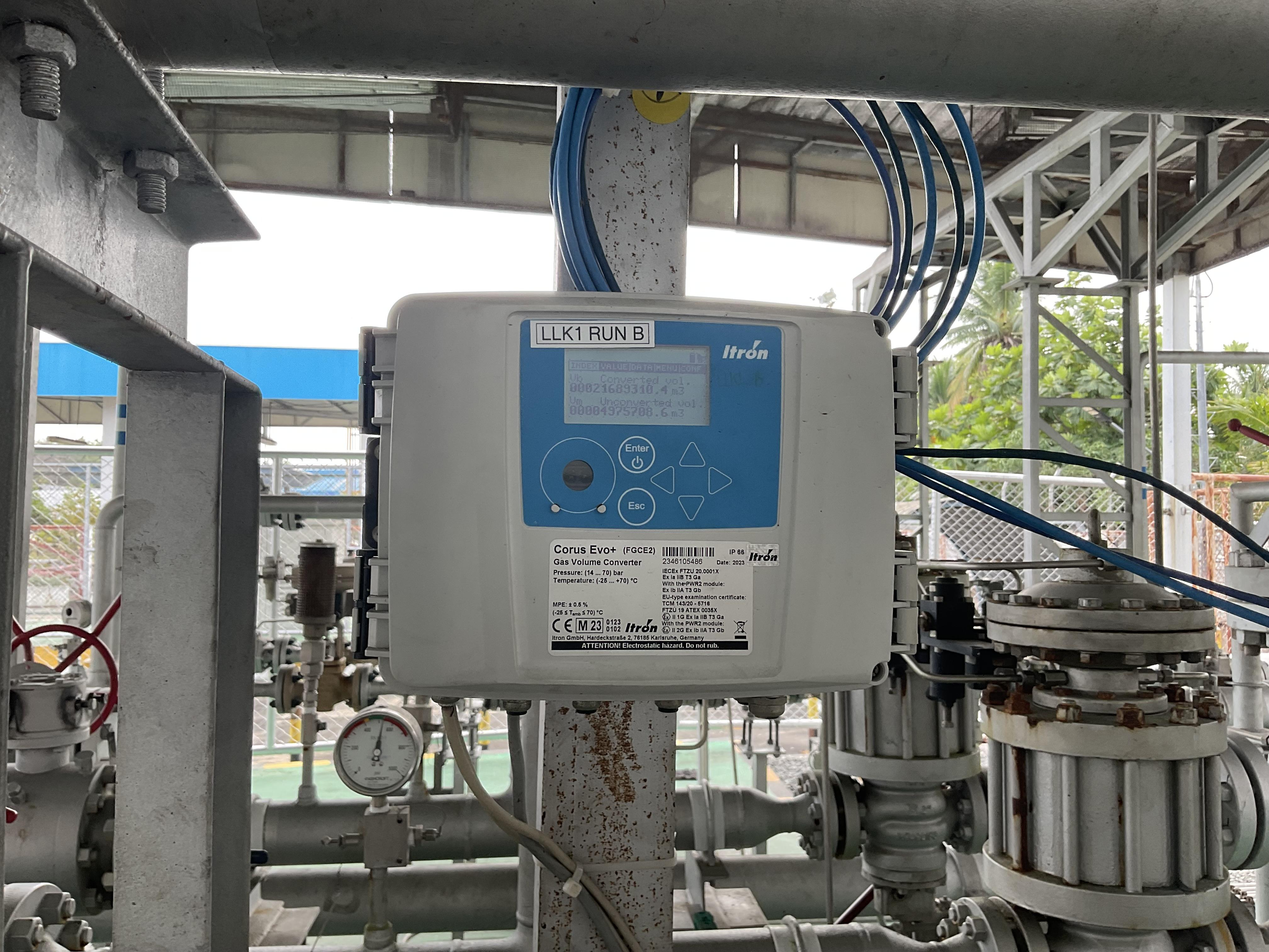digital_screen: (563, 344, 711, 426)
